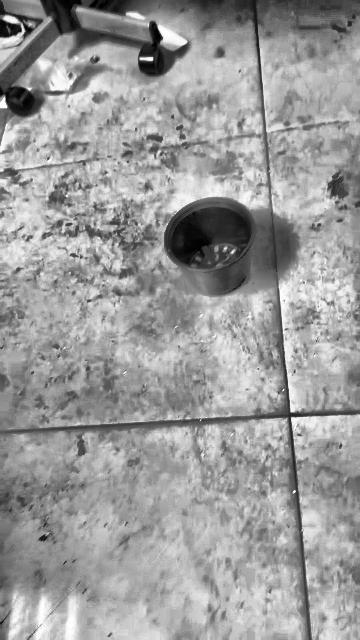pot: (164, 198, 254, 297)
